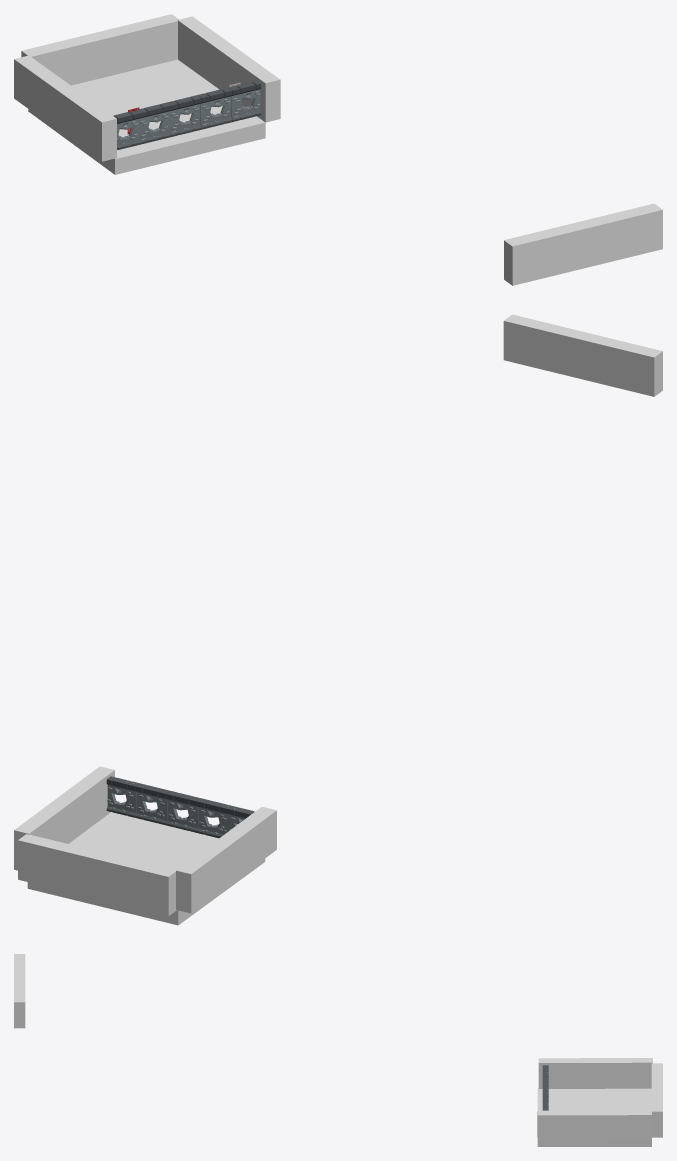
The picture shows the model from 3 angles, top to bottom: view 1: azimuth 30°, elevation 25°; view 2: azimuth 150°, elevation 25°; view 3: azimuth 270°, elevation 25°; orthographic projection. The views are drawn at different scales.
Visible parts, largest first — view 1: Cube.001, Cube.002, Cube.003, Cube.005, Cube.004, wall_broken.001, wall_broken.003, wall_broken, wall_broken.002, wall_broken.004; view 2: Cube.002, Cube.003, Cube.001, Cube.005, Cube.004, wall_broken.001, wall_broken, wall_broken.003, wall_broken.002; view 3: Cube.004, Cube.005, Cube.001, Cube.002, Cube.003.
Boxes of the visible parts, x1,y1,x2,y2 form: Cube.001: (28, 59, 265, 174); Cube.002: (504, 203, 662, 285); Cube.003: (21, 14, 178, 85); Cube.005: (14, 55, 116, 161); Cube.004: (177, 16, 280, 122); wall_broken.001: (198, 87, 232, 129); wall_broken.003: (137, 102, 170, 144); wall_broken: (167, 95, 201, 136); wall_broken.002: (229, 80, 261, 121); wall_broken.004: (113, 110, 140, 149); Cube.002: (503, 314, 662, 396); Cube.003: (18, 834, 176, 916); Cube.001: (27, 812, 265, 925); Cube.005: (176, 806, 276, 913); Cube.004: (14, 766, 114, 870); wall_broken.001: (135, 783, 169, 825); wall_broken: (166, 791, 200, 832); wall_broken.003: (197, 798, 231, 838); wall_broken.002: (106, 776, 139, 817); Cube.004: (537, 1110, 651, 1141); Cube.005: (538, 1058, 652, 1088); Cube.001: (537, 1088, 651, 1146); Cube.002: (14, 954, 25, 1028); Cube.003: (651, 1063, 662, 1137).
Size of the model in its own units: 23.78 by 27.86 by 113.
Materials: 12 (7 with a texture image).
